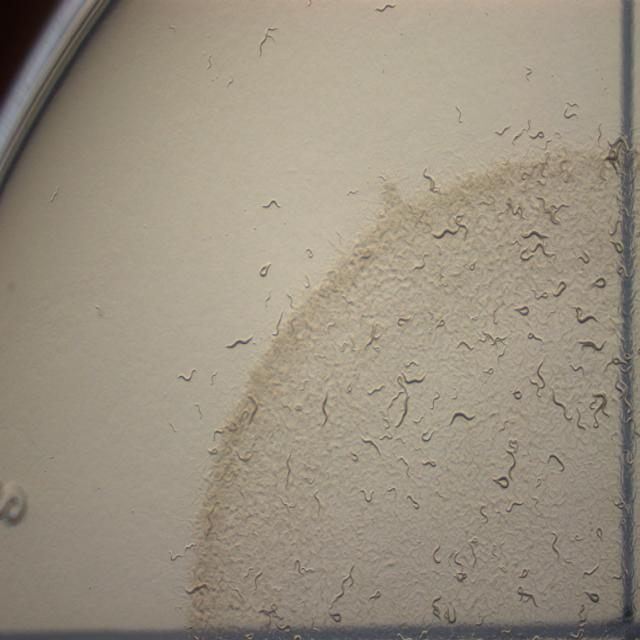filarid: (492, 439, 519, 488), (360, 436, 381, 456), (224, 335, 252, 349), (450, 410, 476, 425), (482, 331, 506, 344), (548, 454, 565, 470), (321, 392, 329, 421), (262, 199, 281, 209), (458, 340, 475, 350), (260, 262, 271, 277), (361, 489, 373, 502), (422, 459, 436, 467), (421, 432, 432, 442), (350, 450, 359, 462), (482, 367, 494, 374), (179, 374, 192, 380), (515, 390, 521, 397)
